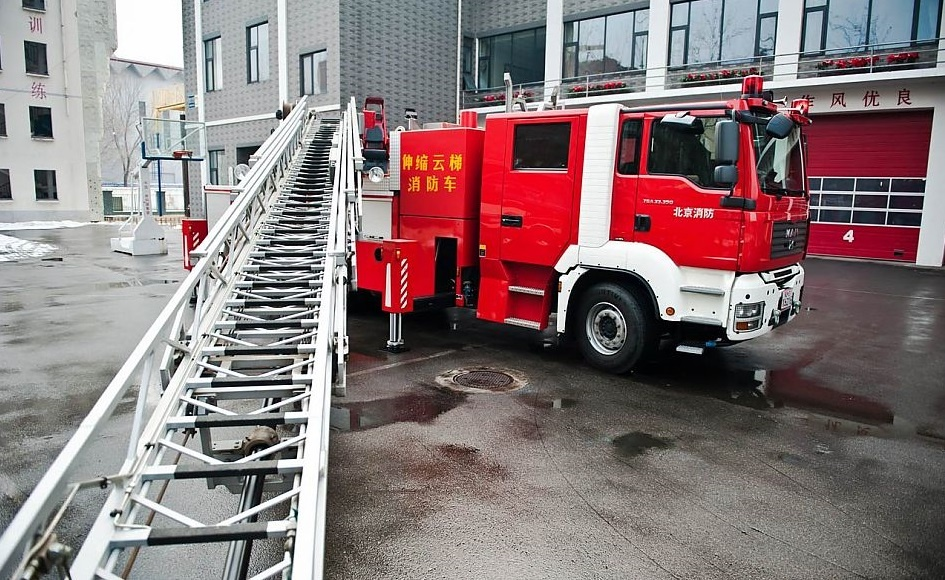fire engine: (193, 88, 822, 368)
